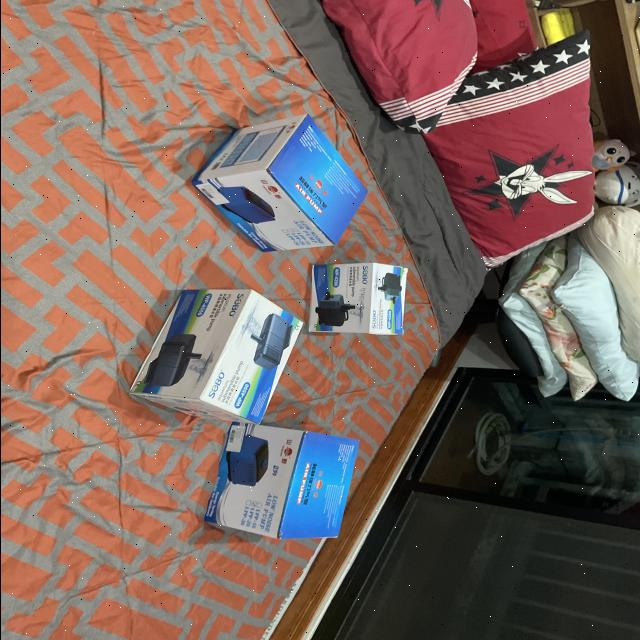SOBO_WP_4200: (120, 286, 314, 430), (300, 249, 430, 346)
YAMANO_LPP_20: (158, 104, 376, 260), (210, 419, 373, 572)
